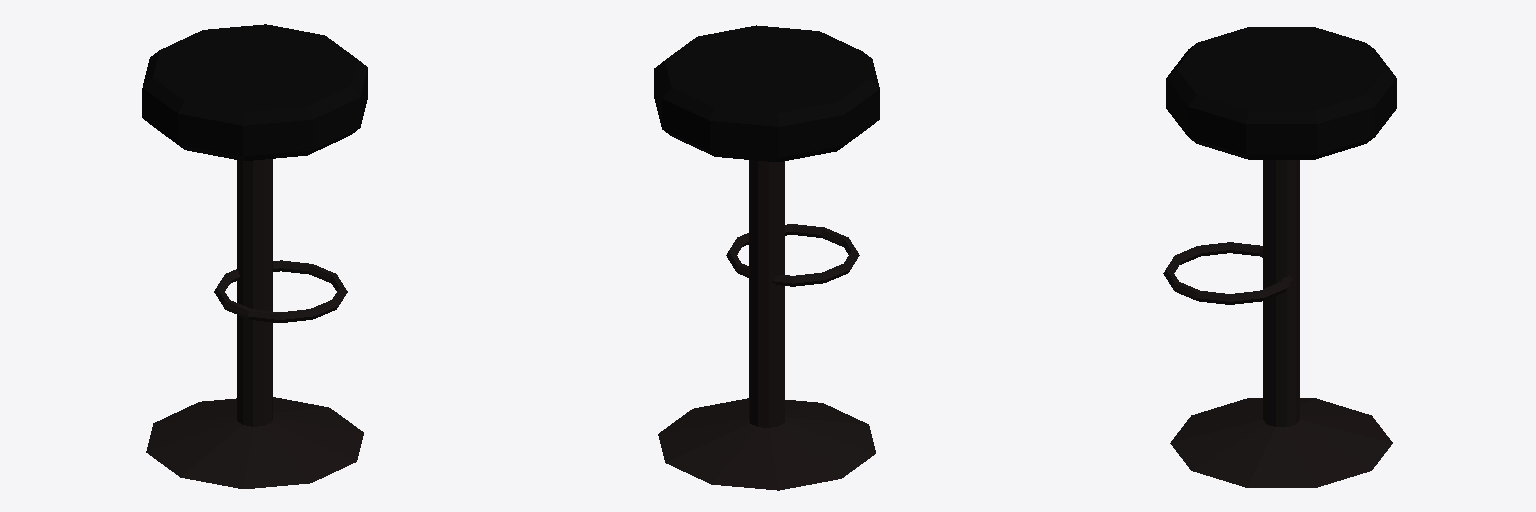
The model's file is ModernKitchenStool1.obj.
The picture shows the model from 3 angles: view 1: azimuth 30°, elevation 25°; view 2: azimuth 150°, elevation 25°; view 3: azimuth 270°, elevation 25°; orthographic projection.
Visible parts, largest first — view 1: ModernKitchenStool1_BezierCircle; view 2: ModernKitchenStool1_BezierCircle; view 3: ModernKitchenStool1_BezierCircle.
Boxes of the visible parts, box(x1,y1,x2,y2) form: ModernKitchenStool1_BezierCircle: box(142, 24, 367, 488); ModernKitchenStool1_BezierCircle: box(654, 25, 879, 490); ModernKitchenStool1_BezierCircle: box(1163, 27, 1396, 487).
Bounding box in the file's own units: 0.4364 × 0.8225 × 0.4652.